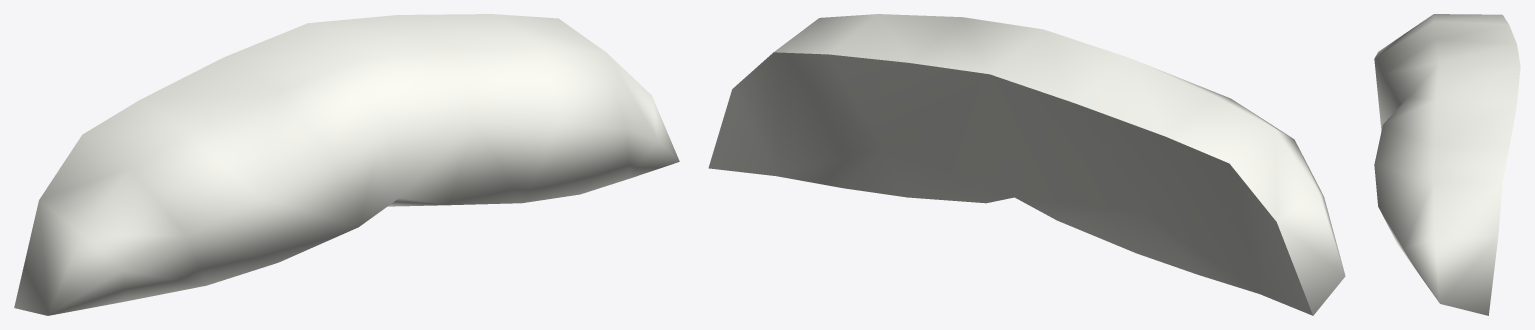
File: Beard_White_4.fbx
The picture shows the model from 3 angles, left to right: view 1: azimuth 30°, elevation 25°; view 2: azimuth 150°, elevation 25°; view 3: azimuth 270°, elevation 25°; orthographic projection. The views are drawn at different scales.
Parts seen in each view (by area): view 1: Beard_White_4; view 2: Beard_White_4; view 3: Beard_White_4.
Boxes of the visible parts, x1,y1,x2,y2 form: Beard_White_4: (14, 14, 679, 315); Beard_White_4: (708, 14, 1345, 315); Beard_White_4: (1374, 14, 1520, 315).
Size of the model in its own units: 26.47 by 7.9 by 7.36.
